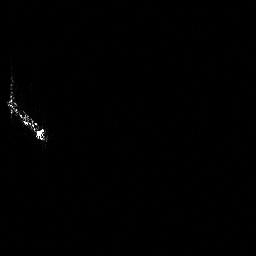ship: (4, 75, 51, 145)
